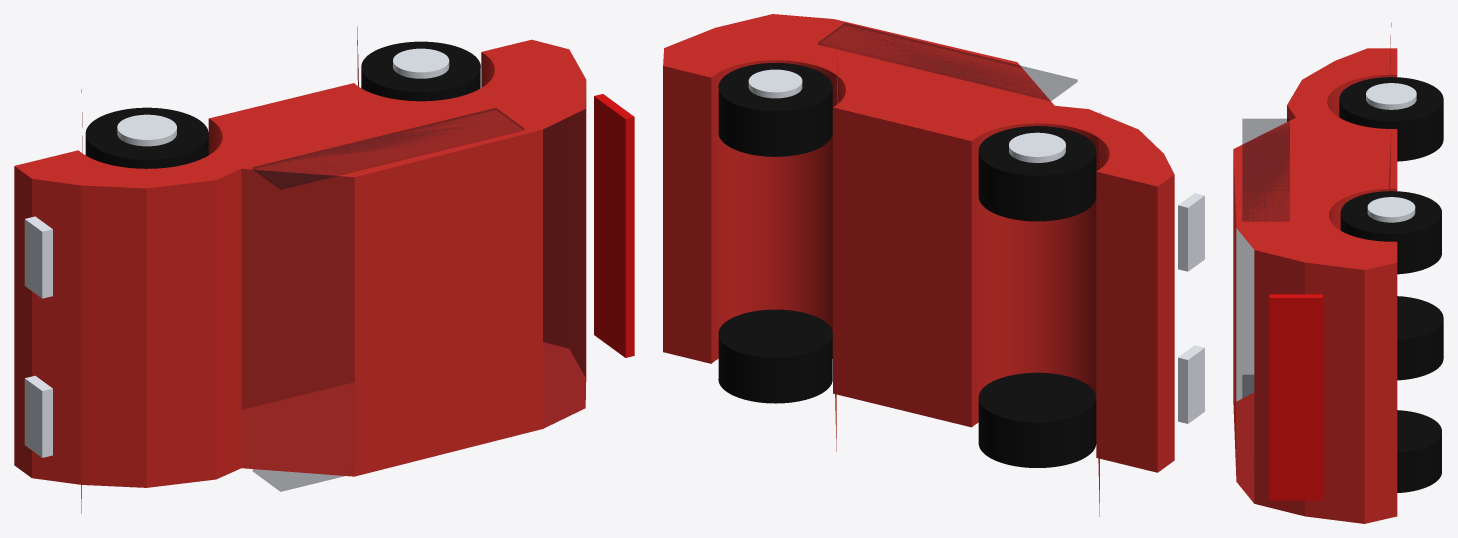
Rendered from Hatchback.obj.
3 renders of one model, left to right at view 1: azimuth 30°, elevation 25°; view 2: azimuth 150°, elevation 25°; view 3: azimuth 270°, elevation 25°, orthographic. The views are drawn at different scales.
Visible parts, largest first — view 1: Body, TL, GLR, WFR, WRR, HLB, HLA, HFR, HRR, GLL; view 2: Body, WFL, WRL, WFR, WRR, GLR, HLB, HLA, HFR, HRR; view 3: Body, TL, WFR, GLR, WRR, WFL, WRL, HFR, HRR.
Part boxes in pixels (box(x1,y1,x2,y2)): Body: box(14, 26, 586, 513); TL: box(594, 94, 634, 357); GLR: box(253, 108, 523, 189); WFR: box(85, 107, 208, 168); WRR: box(361, 41, 480, 101); HLB: box(24, 216, 52, 298); HLA: box(24, 375, 52, 457); HFR: box(117, 114, 176, 146); HRR: box(393, 48, 449, 78); GLL: box(253, 469, 343, 491); Body: box(663, 14, 1174, 516); WFL: box(978, 372, 1096, 467); WRL: box(718, 309, 832, 403); WFR: box(978, 126, 1096, 221); WRR: box(718, 63, 832, 156); GLR: box(818, 23, 1077, 101); HLB: box(1178, 193, 1204, 271); HLA: box(1178, 345, 1204, 423); HFR: box(1009, 132, 1065, 162); HRR: box(748, 69, 802, 98); Body: box(1233, 23, 1397, 523); TL: box(1269, 294, 1322, 500); WFR: box(1339, 77, 1443, 161); GLR: box(1242, 119, 1289, 221); WRR: box(1340, 191, 1441, 274); WFL: box(1397, 296, 1443, 380); WRL: box(1397, 410, 1441, 492); HFR: box(1366, 83, 1416, 109); HRR: box(1367, 197, 1415, 222).
Bounding box in the file's own units: 3.65 × 2.78 × 1.41.
